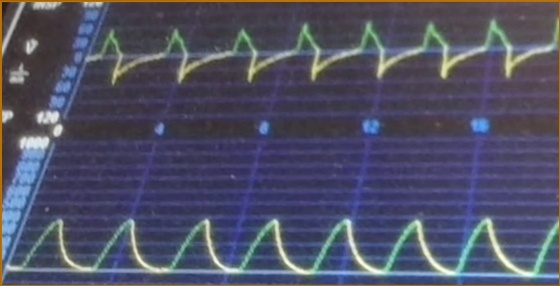Normal Flow: (88, 14, 560, 97)
Normal Volume: (9, 206, 560, 280)
